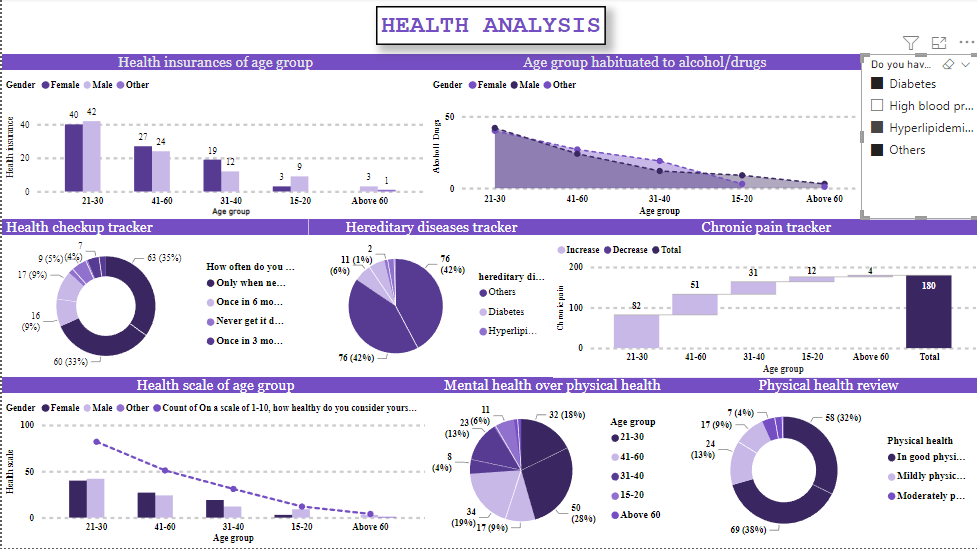

What the dashboard file says about the page in this screenshot:
{"tool":"powerbi","page":{"name":"Page 2","canvas":[1280,720],"ordinal":1},"visuals":[{"type":"areaChart","title":"Age group habituated to alcohol/drugs ","fields":{"Category":["Health Analysis.Age group"],"Y":["CountNonNull(Health Analysis.Are you habituated to alcohol/drugs ?)"],"Series":["Health Analysis.Gender"]},"box":[558.7,72.8,565.5,216.7],"z":0},{"type":"slicer","fields":{"Values":["Health Analysis.Do you have any hereditary conditions/ diseases ?"]},"box":[1124.2,72.8,155.8,216.7],"z":1000},{"type":"clusteredColumnChart","title":"Health insurances of age group","fields":{"Series":["Health Analysis.Gender"],"Category":["Health Analysis.Age group"],"Y":["CountNonNull(Health Analysis.Do you have a health insurance ? )"]},"box":[0,72.8,558.7,216.7],"z":2000},{"type":"pieChart","title":"Hereditary diseases tracker","fields":{"Series":["Health Analysis.Gender"],"Category":["Health Analysis.Do you have any hereditary conditions/ diseases ?"],"Y":["CountNonNull(Health Analysis.Gender)"]},"box":[401.3,289.5,320,206.6],"z":3000},{"type":"donutChart","title":"Health checkup tracker","fields":{"Series":["Health Analysis.Gender"],"Y":["CountNonNull(Health Analysis.Gender)"],"Category":["Health Analysis.How often do you get a health checkup ? "]},"box":[0,289.5,401.3,206.6],"z":4000},{"type":"lineClusteredColumnComboChart","title":"Health scale of age group","fields":{"Category":["Health Analysis.Age group"],"Series":["Health Analysis.Gender"],"Y":["CountNonNull(Health Analysis.On a scale of 1-10, how healthy do you consider yourself ?)"],"Y2":["CountNonNull(Health Analysis.On a scale of 1-10, how healthy do you consider yourself ?)"]},"box":[0,496.1,558.7,223.5],"z":5000},{"type":"donutChart","title":"Physical health review ","fields":{"Y":["CountNonNull(Health Analysis.Gender)"],"Series":["Health Analysis.Gender"],"Category":["Health Analysis.Would you say you are :"]},"box":[883.8,496.1,396.2,223.5],"z":6000},{"type":"pieChart","title":"Mental health over physical health","fields":{"Category":["Health Analysis.Age group"],"Y":["CountNonNull(Health Analysis.Does your mental well being has an affect on your physical health ?)"],"Series":["Health Analysis.Does your mental well being has an affect on your physical health ?"]},"box":[558.3,495.9,325.5,223],"z":7000},{"type":"waterfallChart","title":"Chronic pain tracker ","fields":{"Category":["Health Analysis.Age group"],"Y":["CountNonNull(Health Analysis.Do you experience any chronic pain ?)"]},"box":[721.3,289.5,558.7,208.3],"z":8000},{"type":"shape","box":[489,11.1,300.6,51.3],"z":9000}]}

Visuals, with their boxes in screenshot pixels (x1, y1, x2, y2), scaled from the page's 1280x720 canvas onto the 977x549 screenshot:
"Age group habituated to alcohol/drugs " areaChart: crop(426, 56, 858, 221)
slicer - Health Analysis.Do you have any hereditary conditions/ diseases ?: crop(858, 56, 976, 221)
"Health insurances of age group" clusteredColumnChart: crop(0, 56, 426, 221)
"Hereditary diseases tracker" pieChart: crop(306, 221, 551, 378)
"Health checkup tracker" donutChart: crop(0, 221, 306, 378)
"Health scale of age group" lineClusteredColumnComboChart: crop(0, 378, 426, 548)
"Physical health review " donutChart: crop(675, 378, 976, 548)
"Mental health over physical health" pieChart: crop(426, 378, 675, 548)
"Chronic pain tracker " waterfallChart: crop(551, 221, 976, 380)
shape: crop(373, 8, 603, 48)
